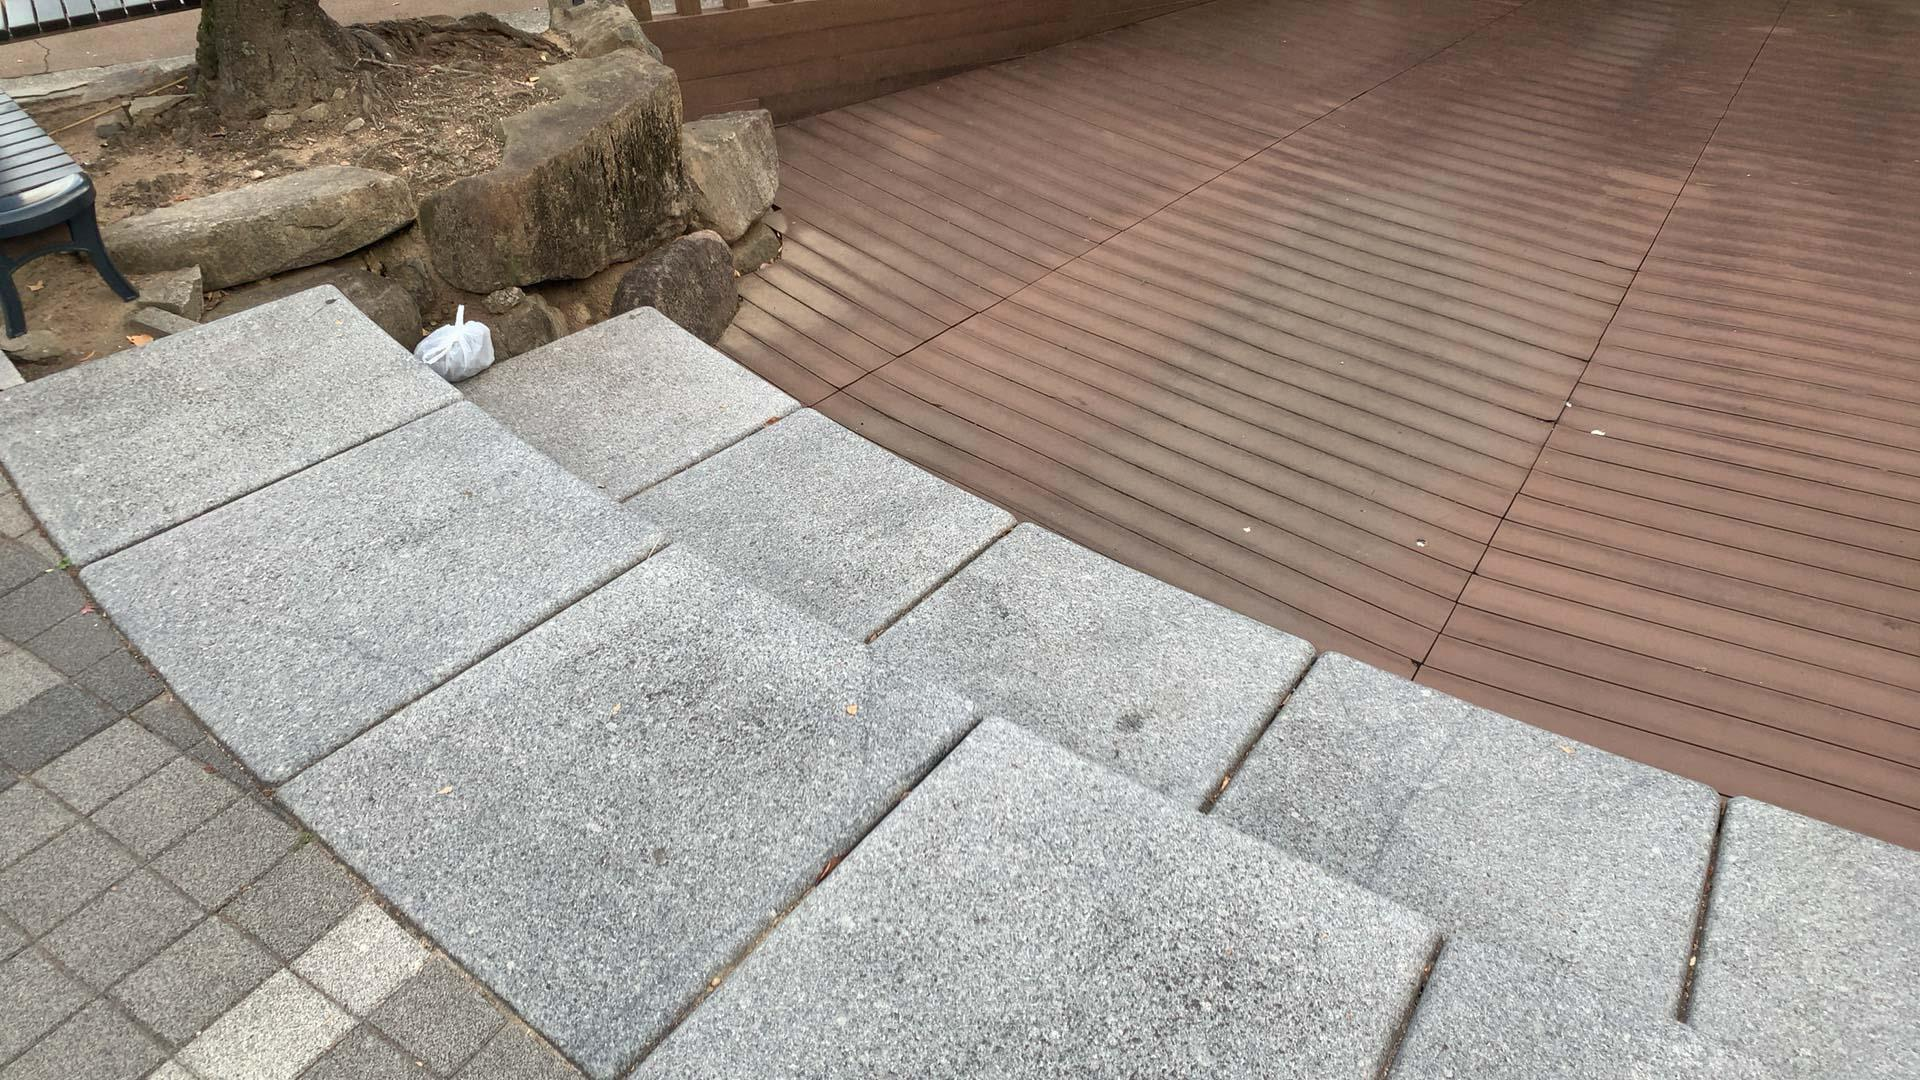white_bag: (400, 298, 501, 384)
